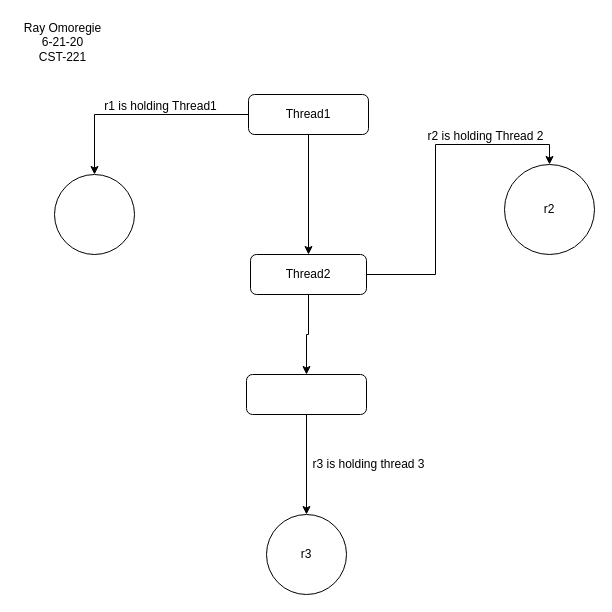
Image size: 612x612. Some labels were removed from this diagram. Each missing label, with the centre of its shape:
"r1" belongs at (94,214).
"Thread3" belongs at (306,394).
